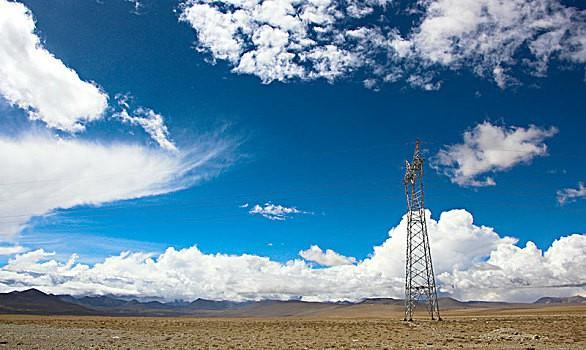power_tower: (387, 136, 446, 322)
